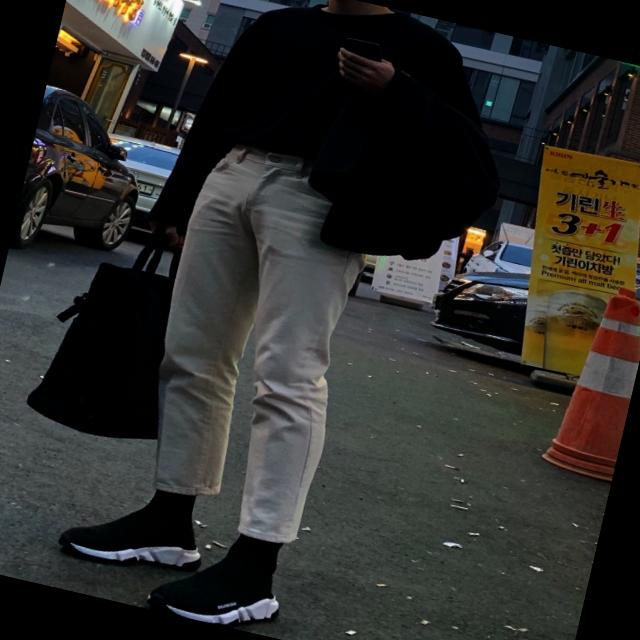cottonpants: (124, 135, 392, 547)
longsleeve: (143, 0, 507, 285)
